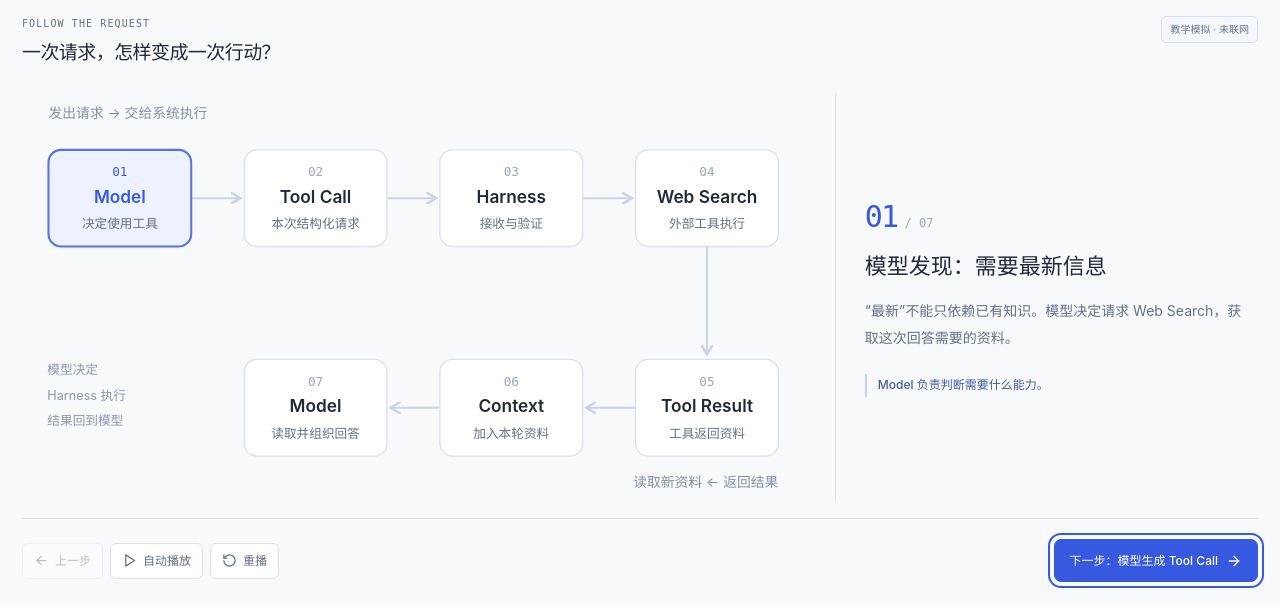
Tool execution visualization and results › steps through responsibility boundaries by keyboard and highlights the matching node
Press Enter
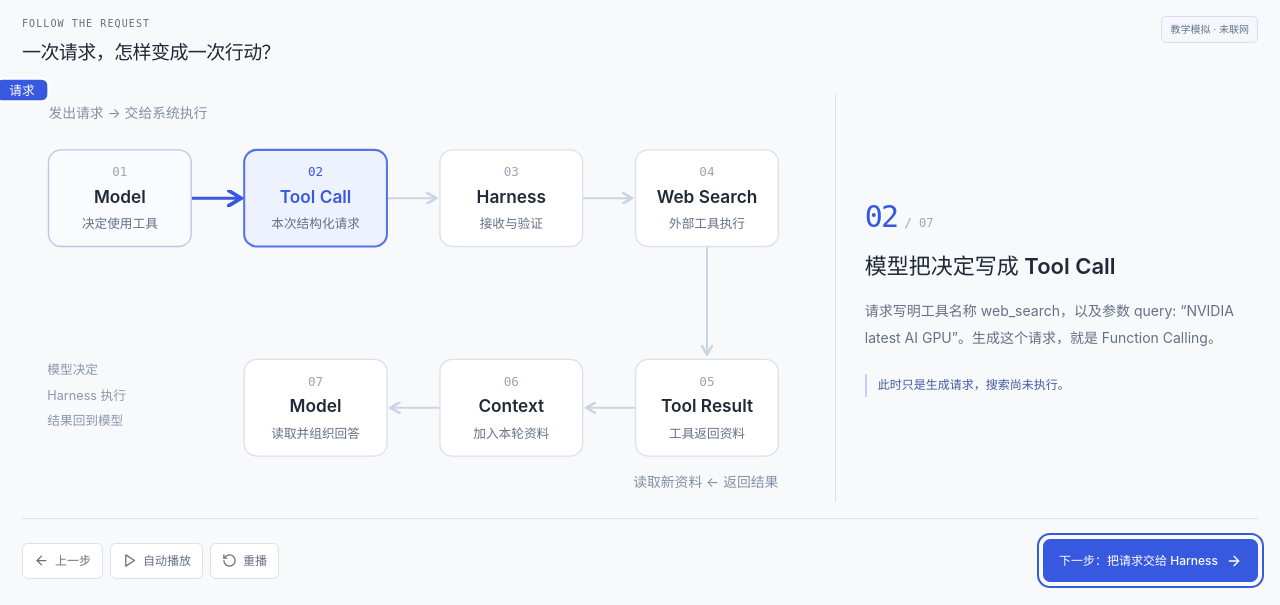
Expected: the text "此时只是生成请求，搜索尚未执行。" is shown, [865,374,1255,397]
Click the button "下一步：把请求交给 Harness".
click(1151, 561)  # box [1043,539,1258,582]
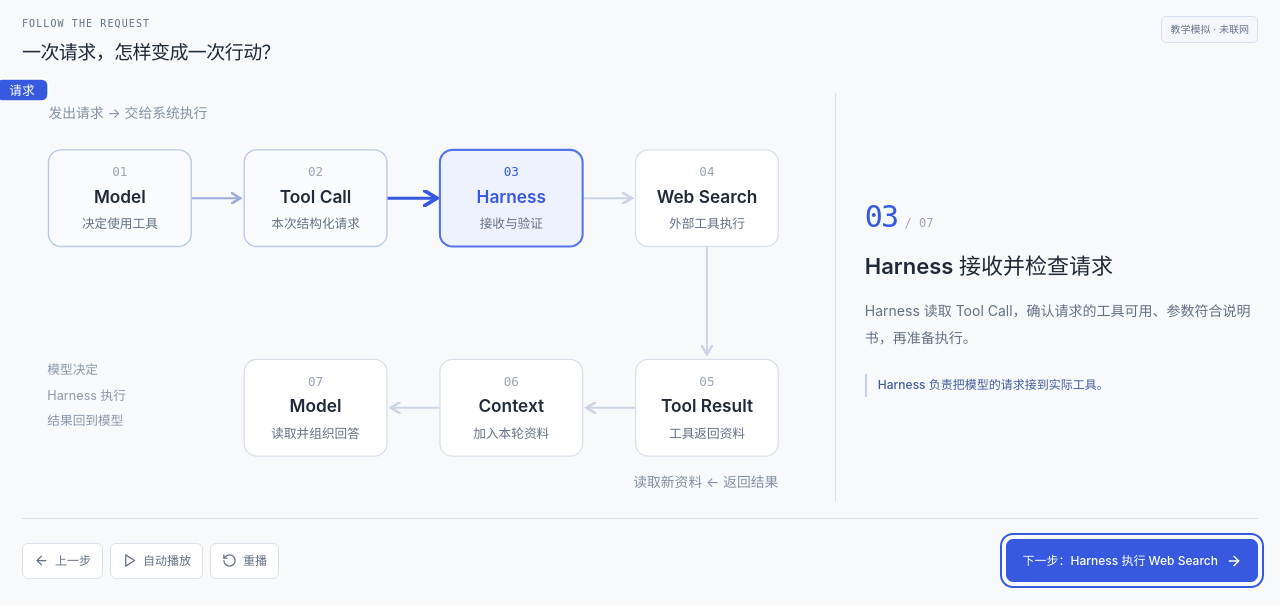
Click the button "下一步：Harness 执行 Web Search".
click(1132, 561)  # box [1006,539,1258,582]
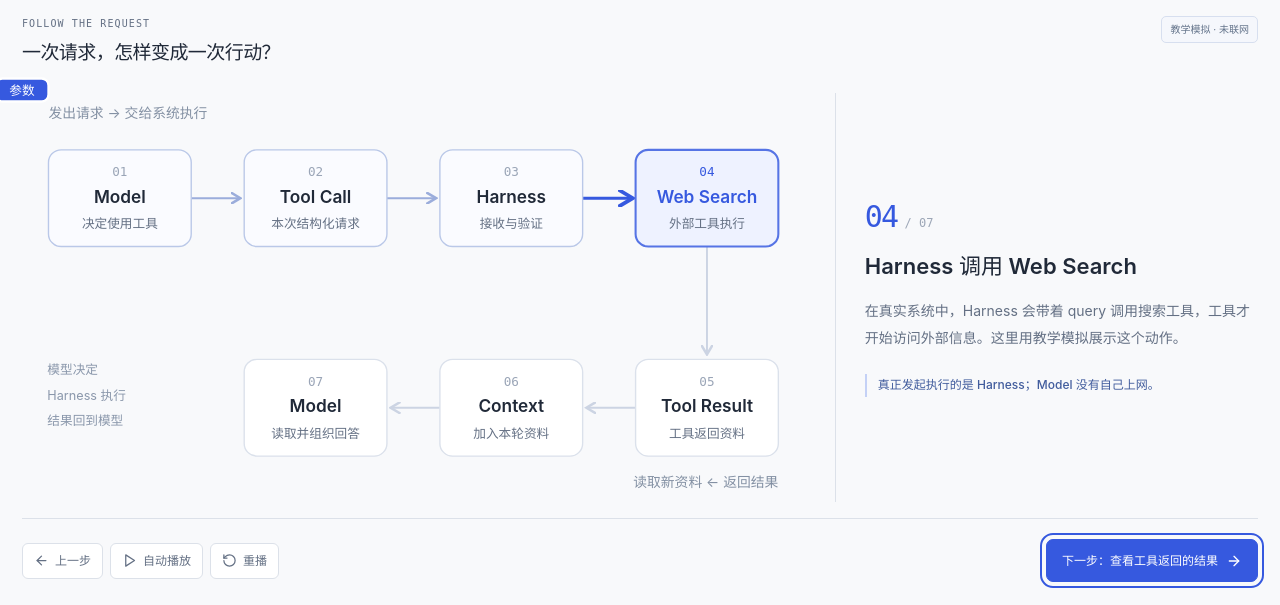
Expected: the text "真正发起执行的是 Harness；Model 没有自己上网。" is shown, [865,374,1255,397]
Click the button "下一步：查看工具返回的结果".
click(1152, 561)  # box [1046,539,1258,582]
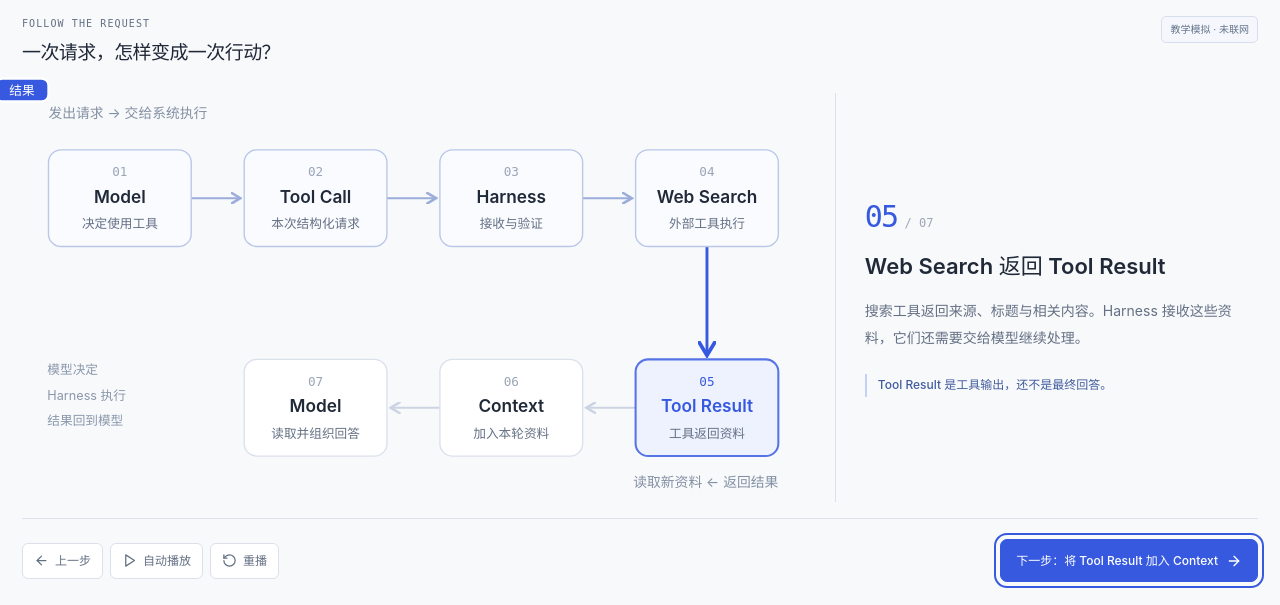
Expected: the text "Tool Result 是工具输出，还不是最终回答。" is shown, [865,374,1255,397]
Click the button "下一步：将 Tool Result 加入 Context".
click(1129, 561)  # box [1000,539,1258,582]
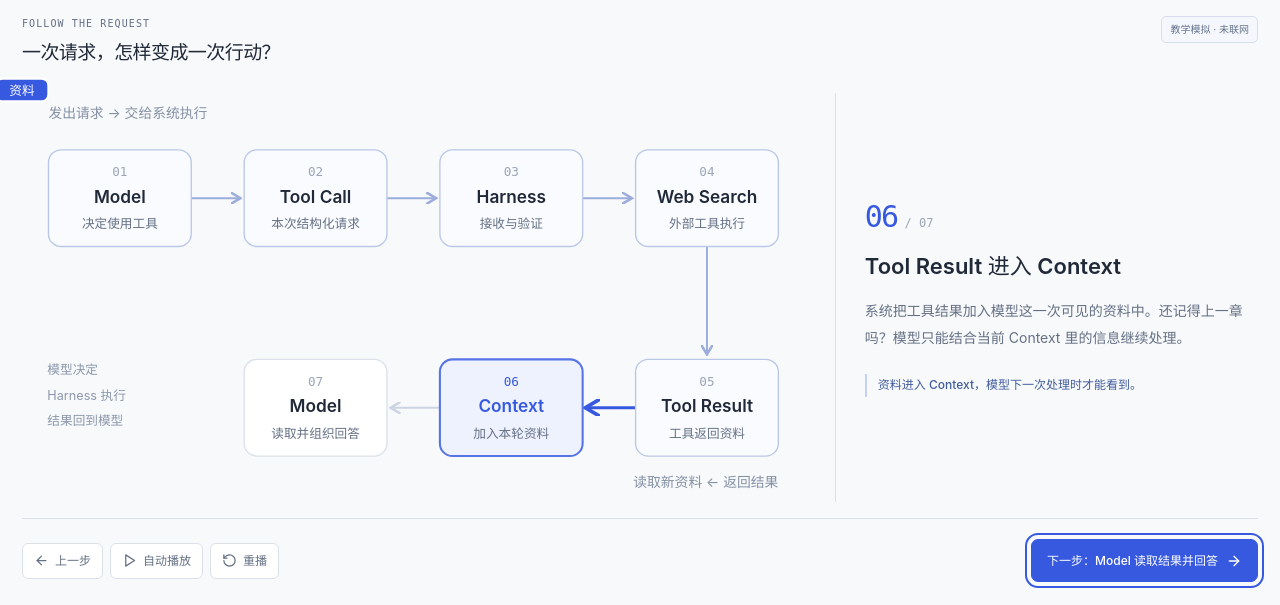
Click the button "下一步：Model 读取结果并回答".
click(1145, 561)  # box [1031,539,1258,582]
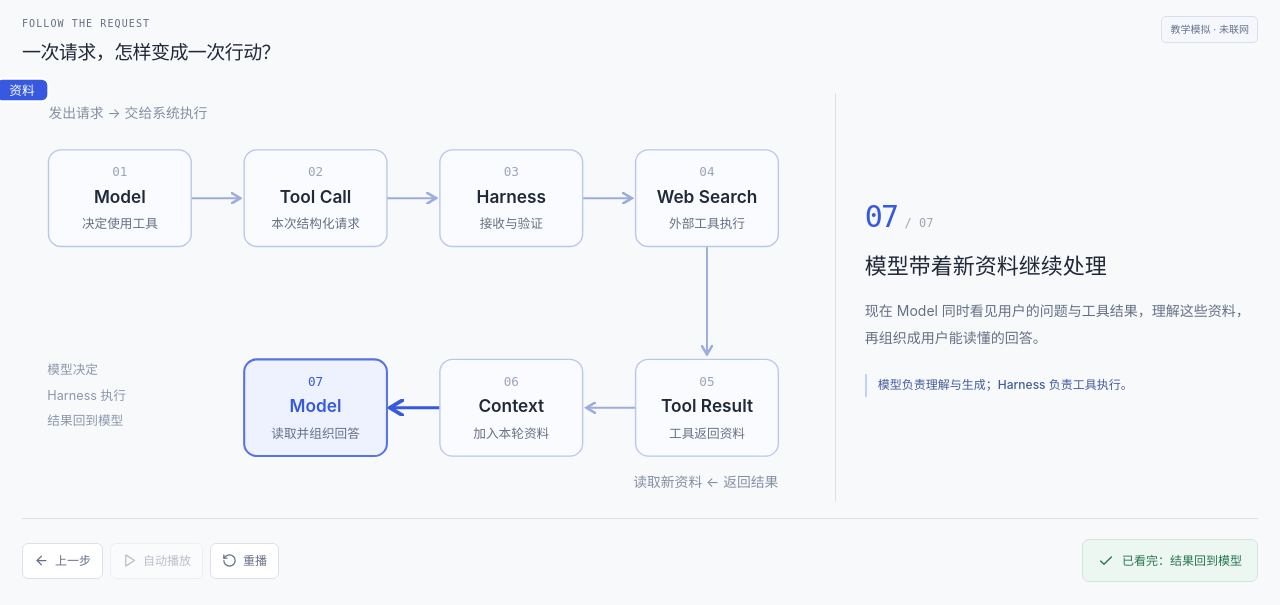
Expected: the button "已看完：结果回到模型" is disabled, [1082,539,1258,582]
